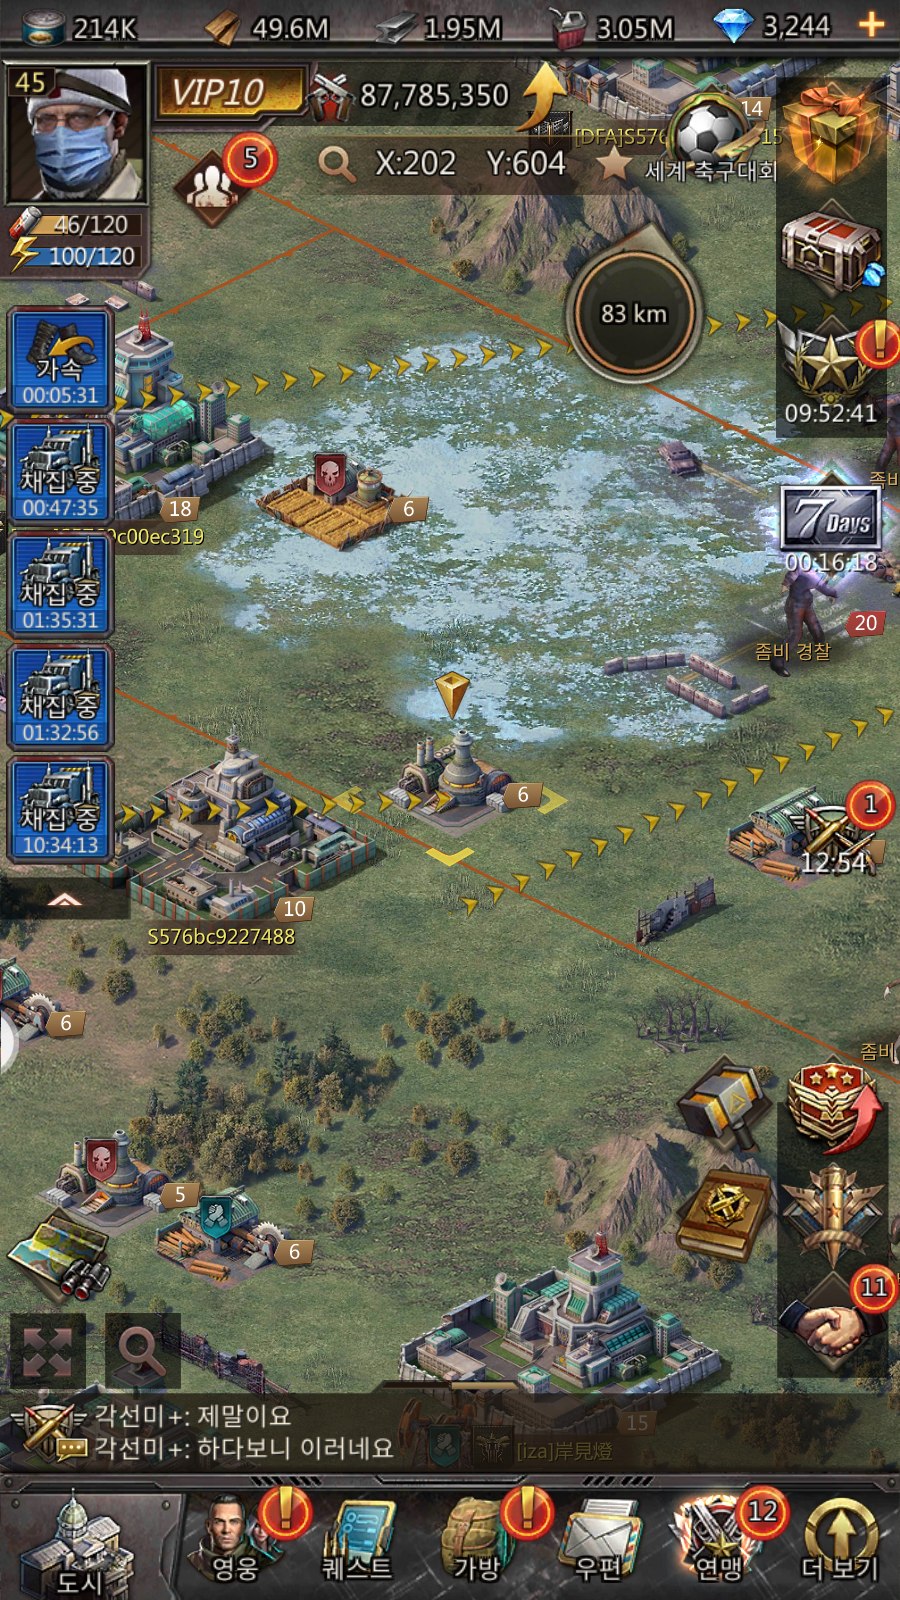city: (11, 1487, 173, 1600)
occupied_steel: (309, 655, 593, 882)
open_panel: (87, 1296, 202, 1405)
troops_cnt_5: (155, 124, 287, 244)
